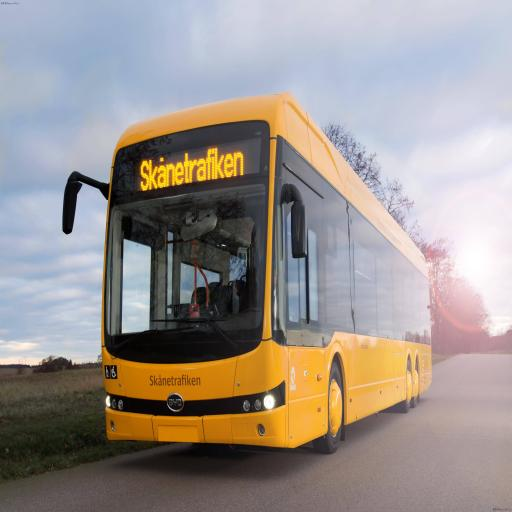bus: (63, 93, 431, 452)
